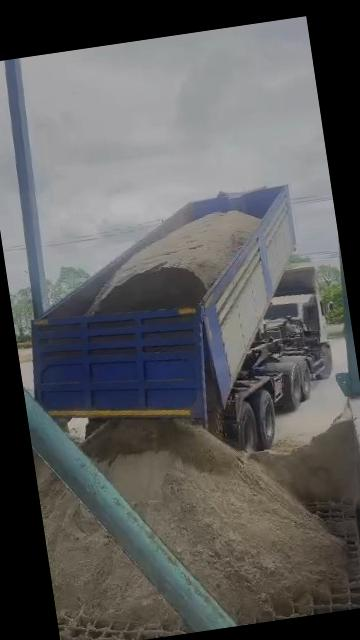sand: (83, 420, 345, 625), (36, 460, 181, 628), (89, 210, 259, 313), (251, 412, 359, 504), (206, 369, 219, 434), (274, 439, 302, 453)
